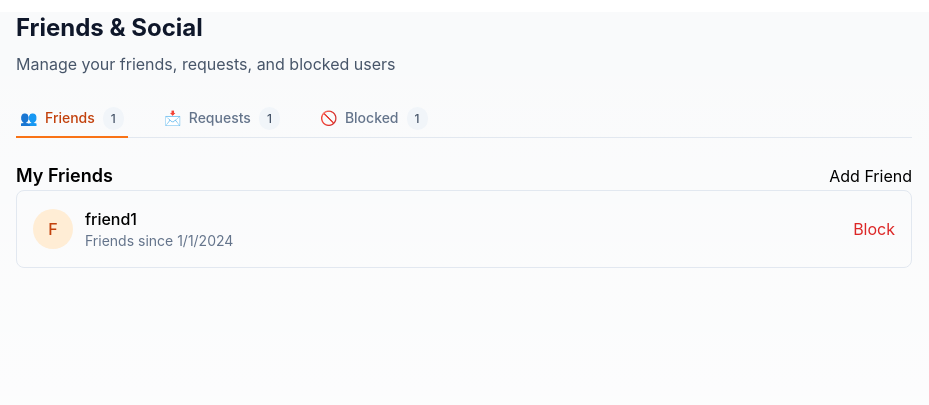
Test case: FriendsAndSocial › shows success message after sending friend request
The image size is (929, 405).
// Open form and submit
Click the button "Add Friend". click: (871, 176)
box: [829, 164, 912, 188]
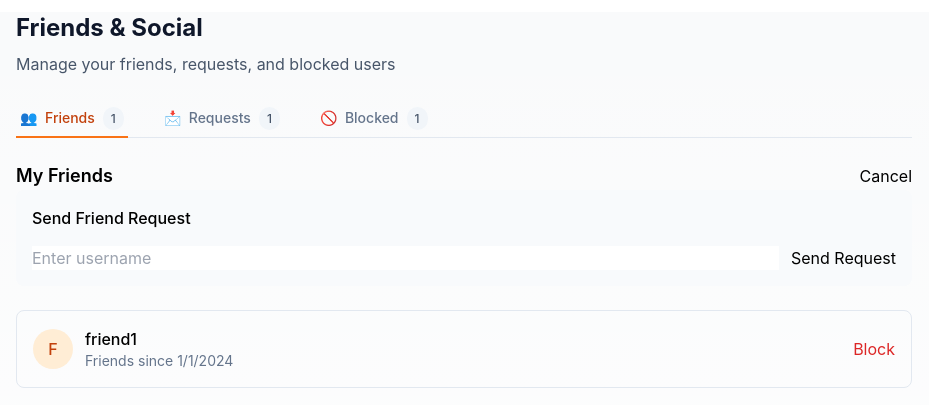
Type "newFriend" into the field with placeholder "Enter username". click: (406, 258)
box: [32, 246, 779, 270]
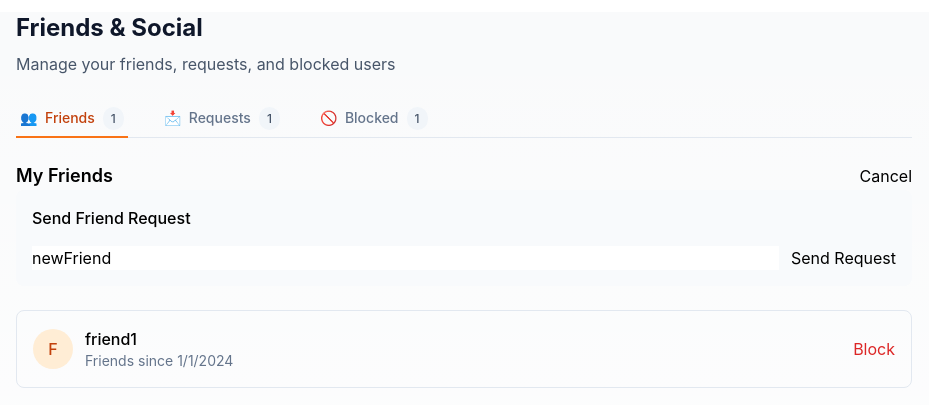
Click the button "Send Request". click: (844, 258)
box: [791, 246, 896, 270]
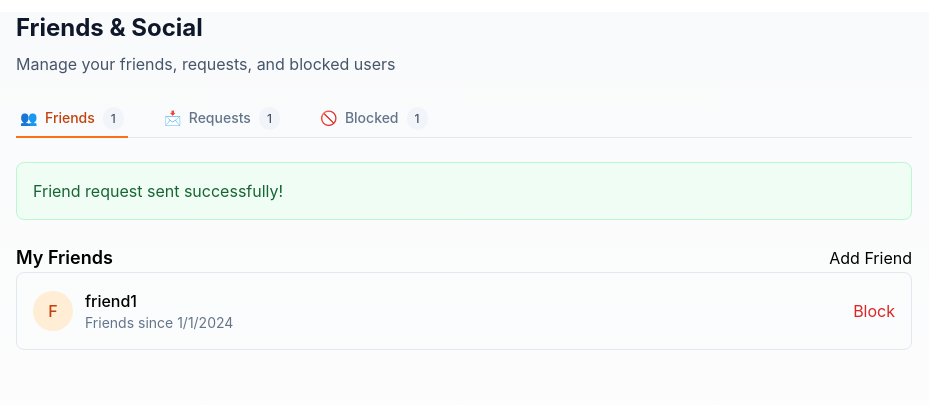
Now the text "Friend request sent successfully!" is shown, box [33, 181, 283, 201]
